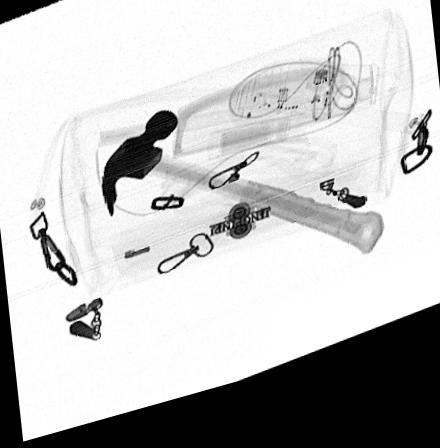Hammer: (99, 117, 384, 275)
